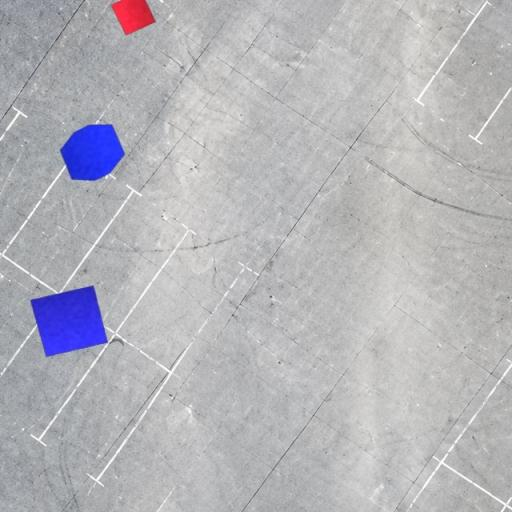BLUE_SQUARE: (30, 284, 108, 358)
RED_SQUARE: (110, 0, 157, 36)
